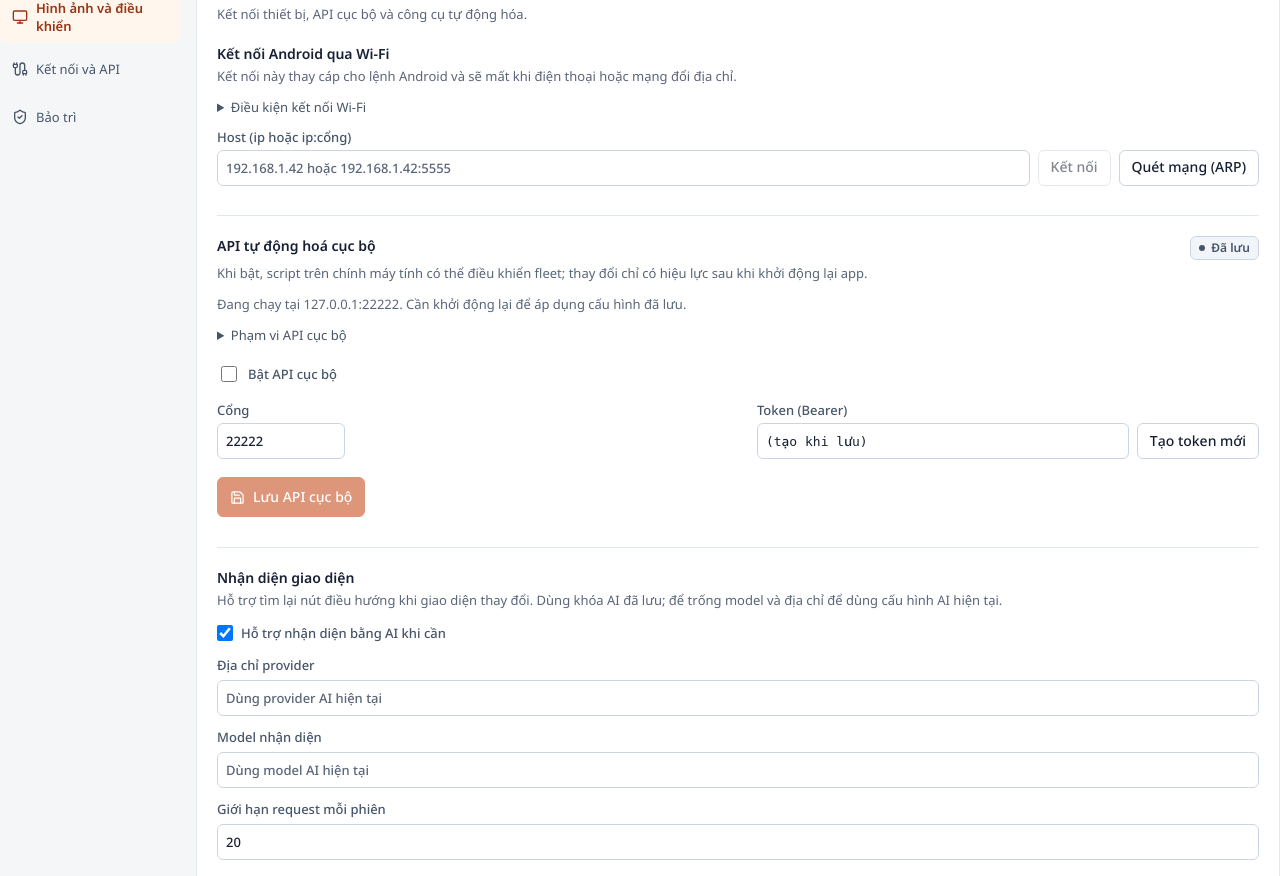
independent settings drafts › keeps newer API port edits while the previous snapshot saves
The image size is (1280, 876).
(page scrolled)
Replace the text in the number field labelled "Cổng" with "23000". click: (281,442)
box: [217, 424, 345, 460]
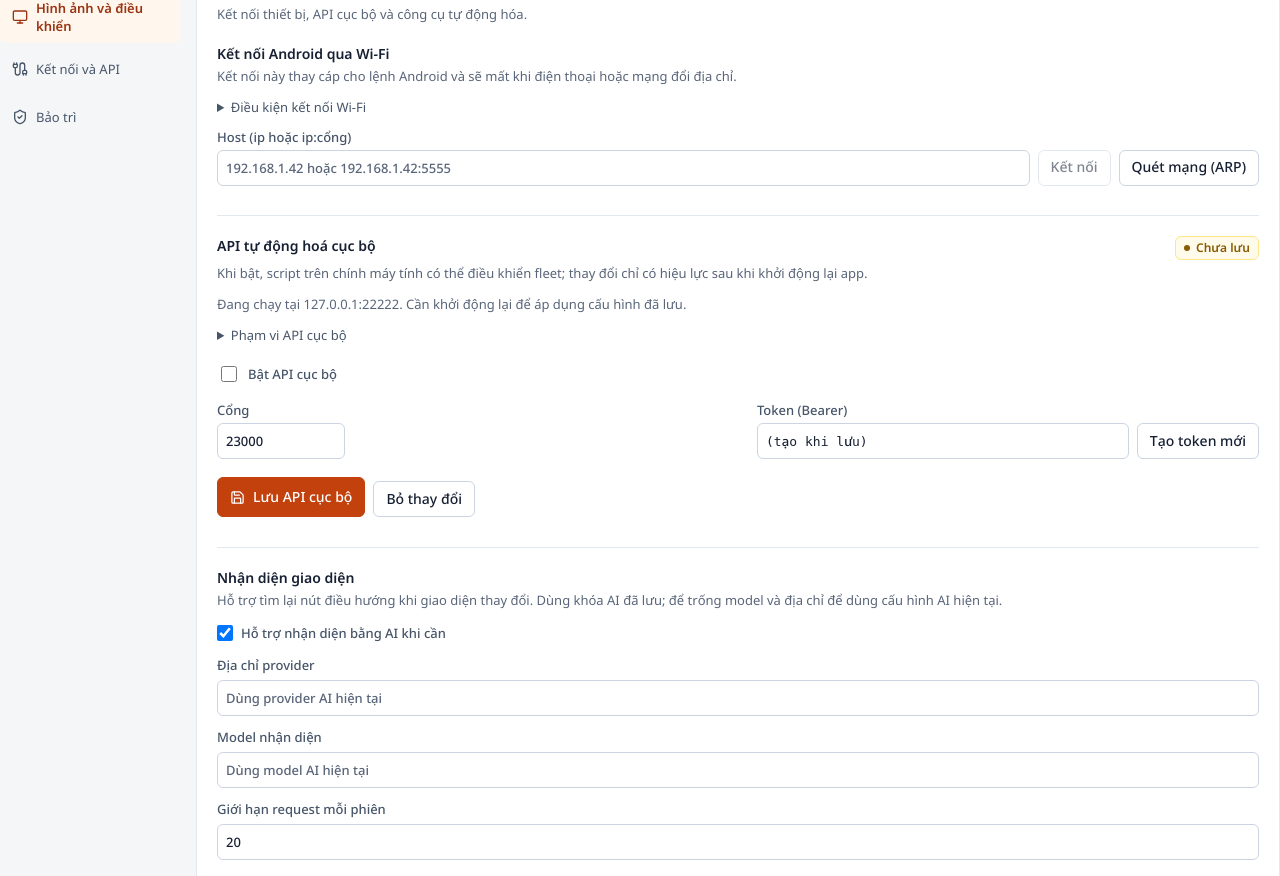
Click the button "Lưu API cục bộ". click: (291,497)
box: [217, 477, 365, 517]
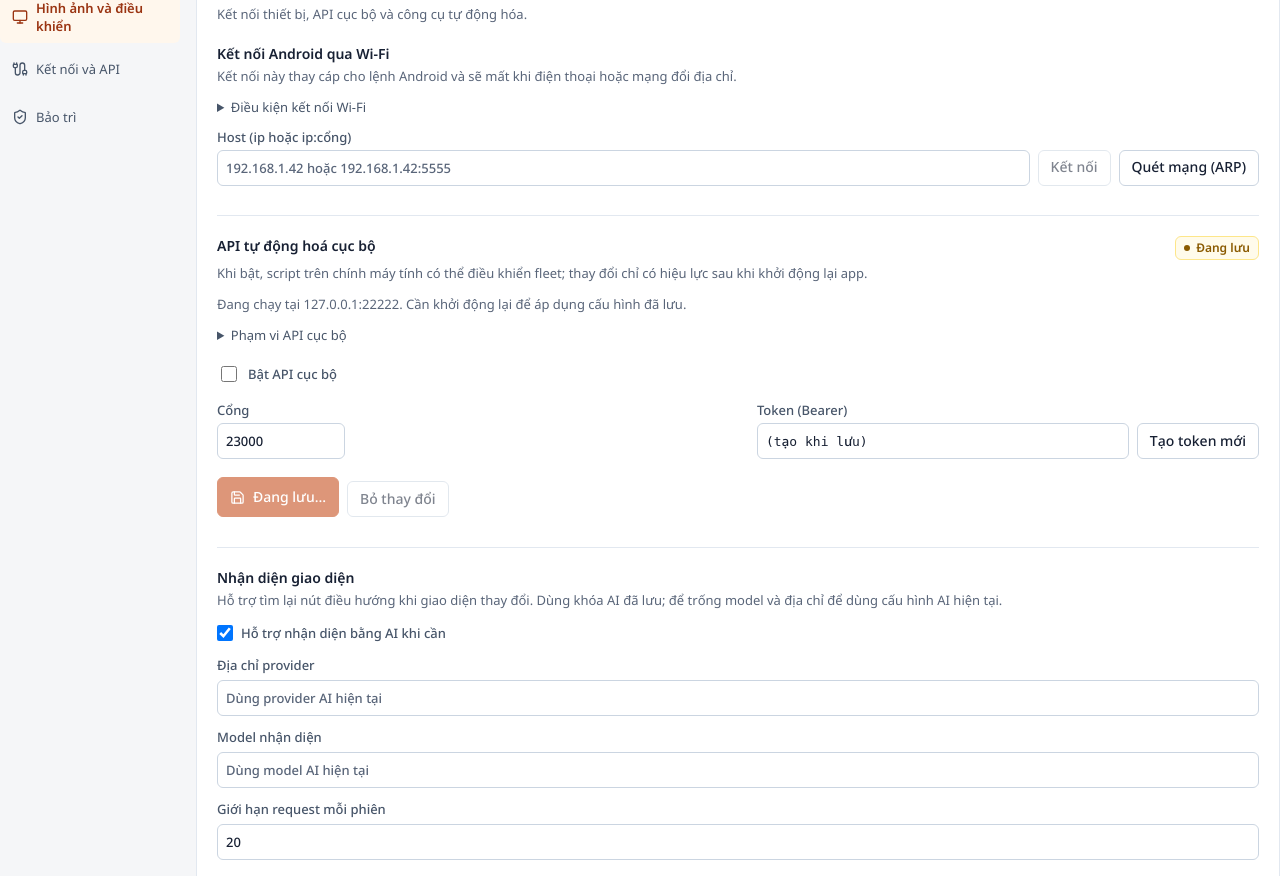
Replace the text in the number field labelled "Cổng" with "24000". click: (281,442)
box: [217, 424, 345, 460]
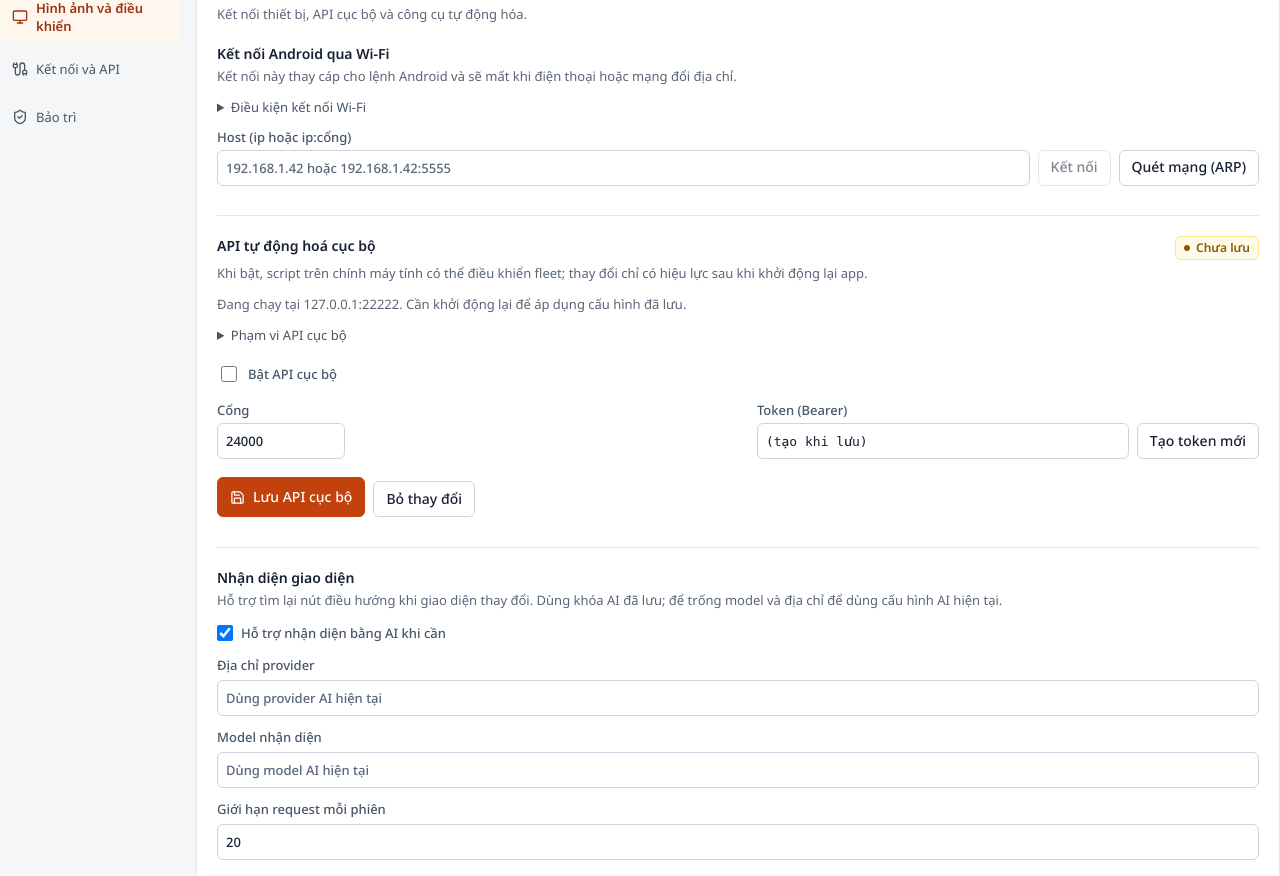
expect the button "Lưu API cục bộ" is enabled: met, box [217, 477, 365, 517]
